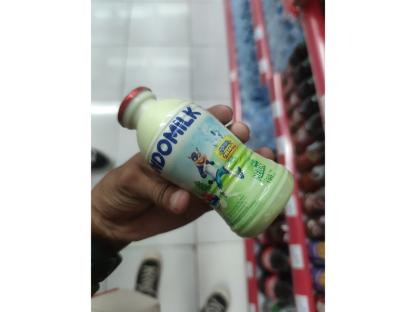Others: (116, 86, 296, 240)
